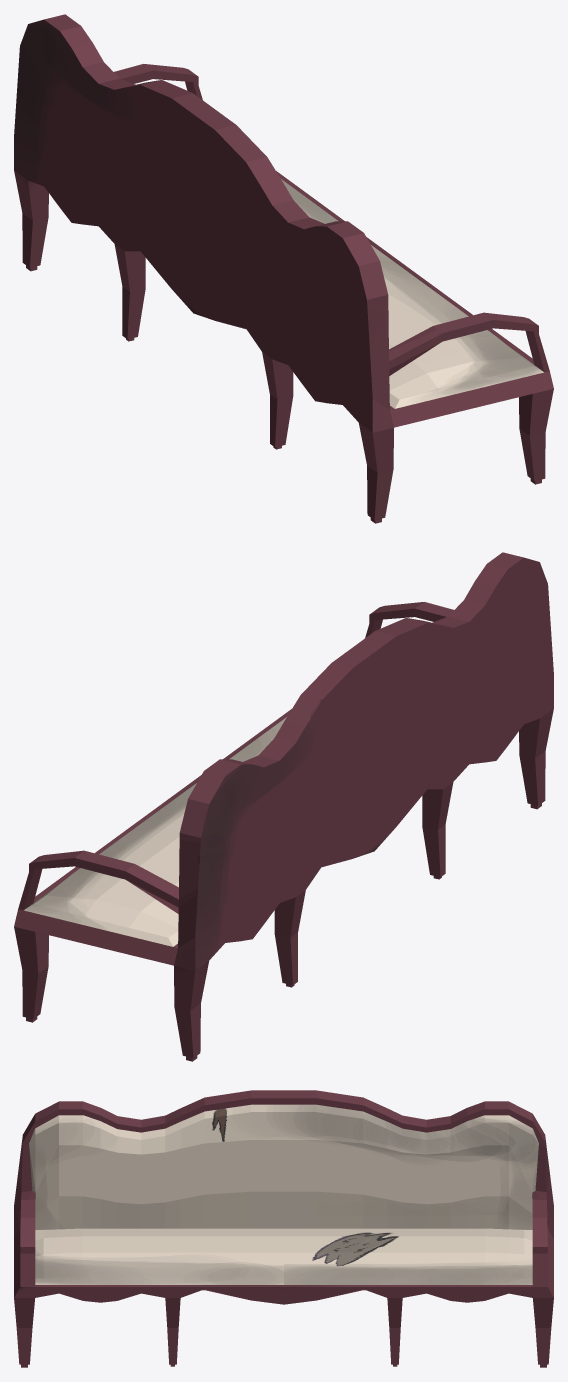
Rendered from SofaPasillo.fbx.
3 views of the same model, one above another, from view 1: azimuth 30°, elevation 25°; view 2: azimuth 150°, elevation 25°; view 3: azimuth 270°, elevation 25° (orthographic). The views are drawn at different scales.
Visible parts, largest first — view 1: Cube; view 2: Cube; view 3: Cube.
Boxes of the visible parts, left/top/right/bottom form: Cube: left=14, top=14, right=553, bottom=523; Cube: left=14, top=552, right=553, bottom=1061; Cube: left=14, top=1090, right=553, bottom=1367.
Size of the model in its own units: 161 by 241 by 553.
Materials: 1 (1 with a texture image).
